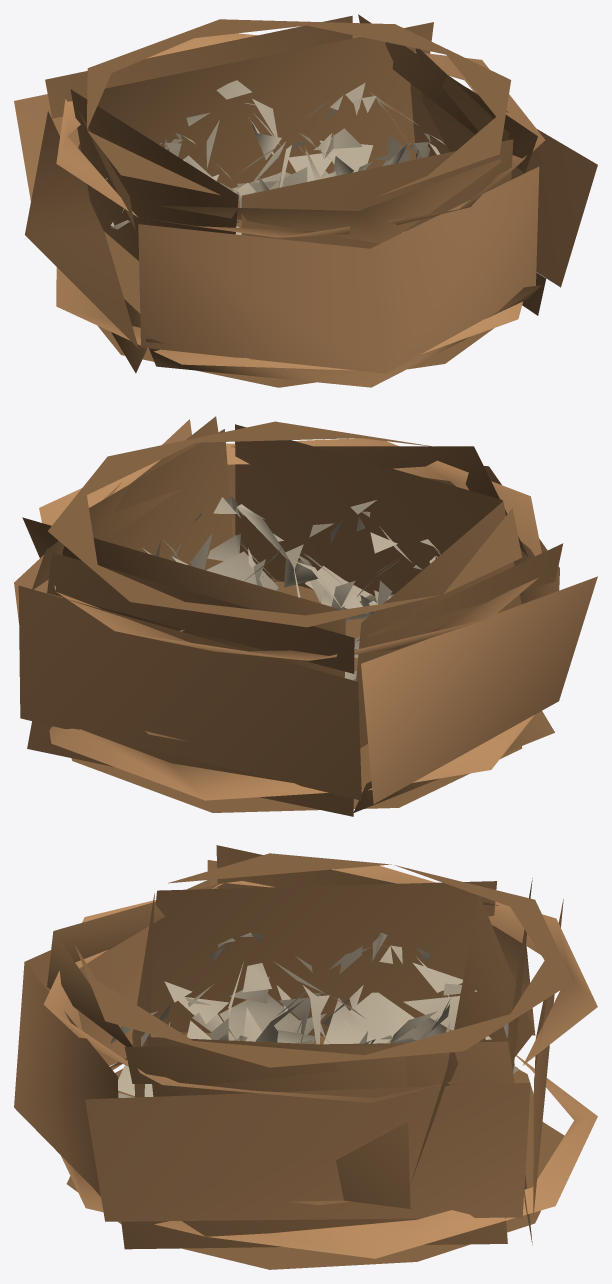
File: steamer_buns.fbx
3 renders of one model, top to bottom at view 1: azimuth 30°, elevation 25°; view 2: azimuth 150°, elevation 25°; view 3: azimuth 270°, elevation 25°, orthographic. The views are drawn at different scales.
Parts seen in each view (by area): view 1: Environment_ChukamanSteamer; view 2: Environment_ChukamanSteamer; view 3: Environment_ChukamanSteamer.
Boxes of the visible parts, x1,y1,x2,y2 form: Environment_ChukamanSteamer: [14, 14, 597, 387]; Environment_ChukamanSteamer: [14, 416, 597, 816]; Environment_ChukamanSteamer: [14, 845, 597, 1269].
Size of the model in its own units: 1 by 0.3801 by 0.9948.
